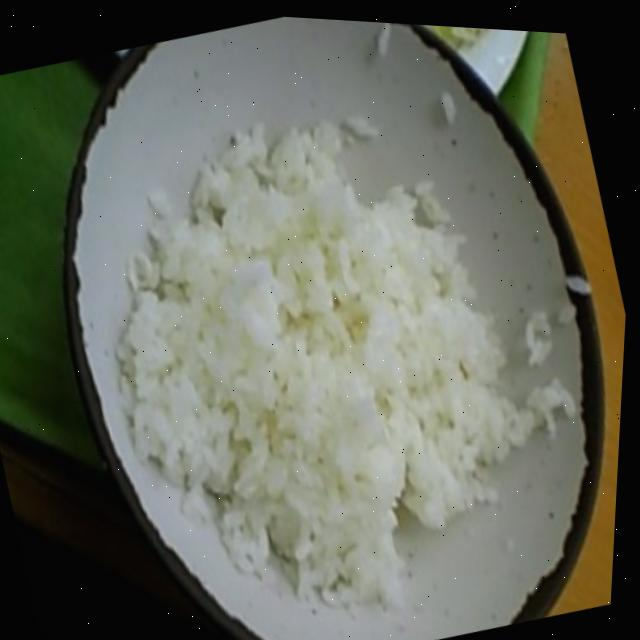米饭主食: (17, 2, 640, 640)
